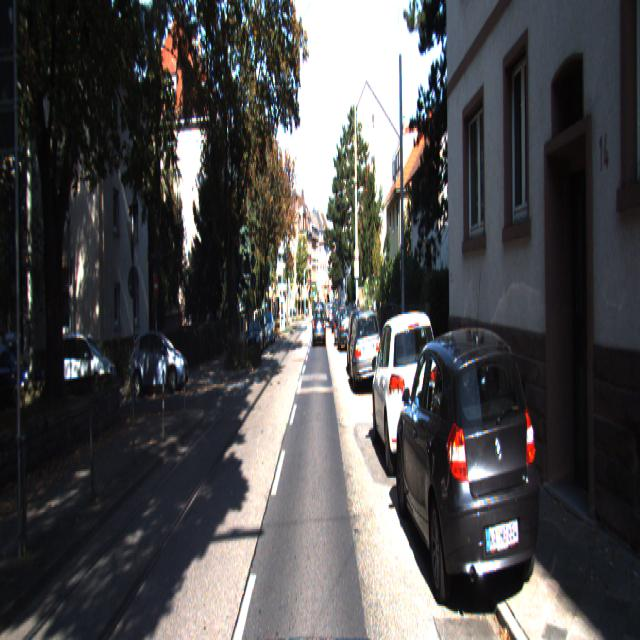Car: (396, 311, 552, 628), (371, 304, 443, 481), (50, 328, 119, 402), (129, 326, 190, 398), (348, 306, 382, 392), (0, 338, 30, 410), (338, 306, 355, 354), (312, 305, 326, 347)
